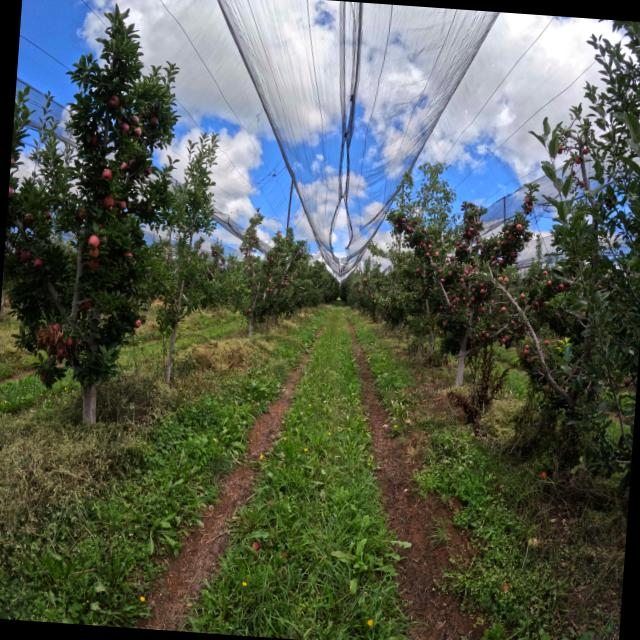-FireBlight-: (36, 324, 66, 355)
